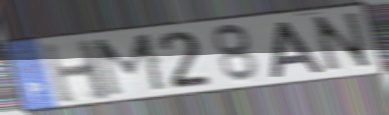2: (159, 30, 215, 91)
8: (211, 23, 261, 85)
A: (269, 19, 327, 79)
H: (40, 38, 116, 106)
M: (91, 31, 171, 100)
N: (309, 10, 377, 76)
